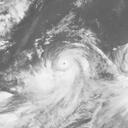cyclone: (21, 43, 93, 110)
